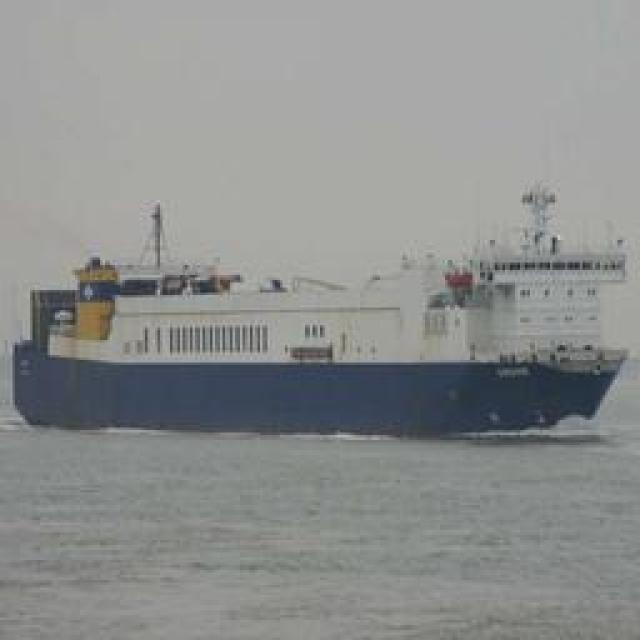CIV_Ship: (12, 238, 632, 428)
